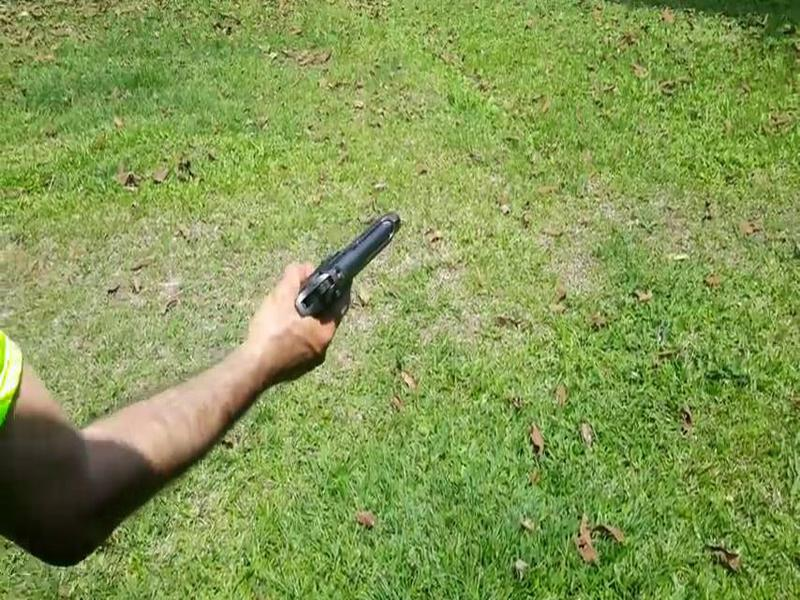Pistola: (284, 204, 422, 340)
